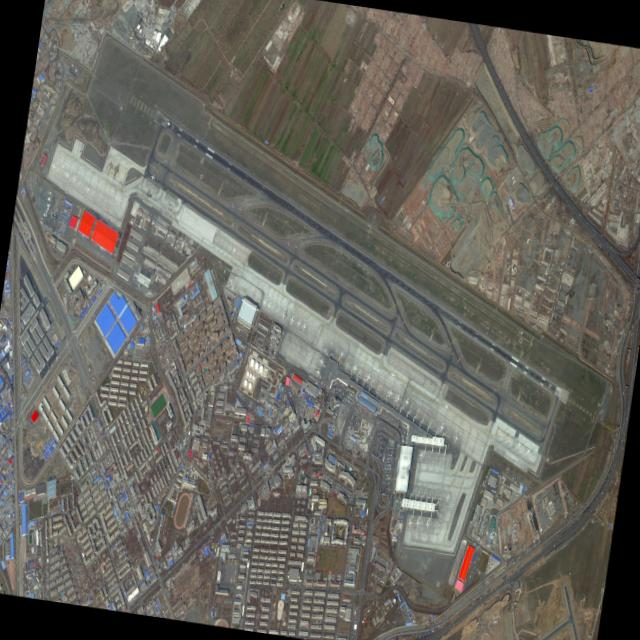plane: (287, 312, 296, 326), (164, 115, 172, 129), (452, 430, 460, 443), (300, 319, 308, 332), (437, 420, 445, 433), (84, 181, 91, 194), (70, 172, 78, 183), (403, 395, 410, 407), (387, 385, 394, 397), (295, 316, 302, 328), (50, 159, 57, 171), (280, 308, 287, 320), (313, 365, 321, 375), (317, 354, 324, 365), (338, 347, 345, 358), (351, 361, 358, 372), (261, 295, 268, 306), (389, 369, 396, 379), (63, 169, 70, 179), (365, 371, 371, 382), (395, 391, 401, 402), (266, 299, 272, 310), (149, 172, 156, 181), (443, 400, 449, 410), (375, 364, 381, 374), (417, 450, 423, 460), (415, 517, 420, 528), (444, 492, 450, 501), (230, 245, 236, 254), (407, 517, 412, 527), (425, 519, 430, 529), (77, 144, 82, 154), (524, 446, 530, 454), (516, 439, 521, 448), (132, 207, 136, 215), (60, 162, 64, 169)
